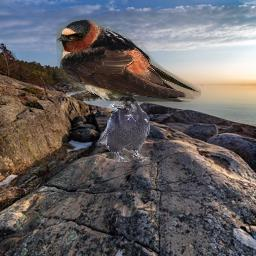Crow: (97, 94, 150, 162)
Swallow: (56, 18, 201, 104)
